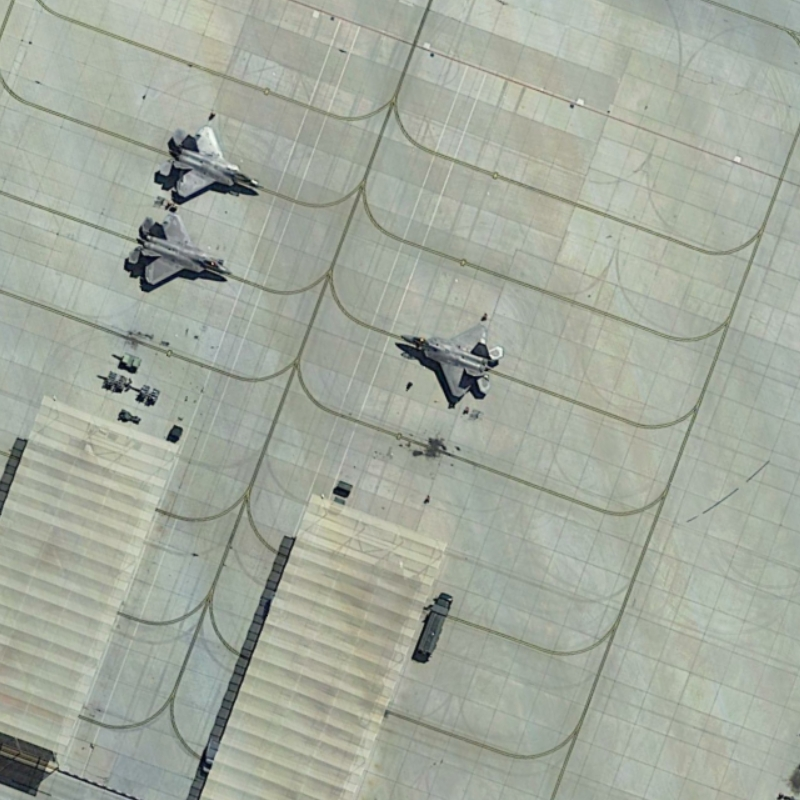A15: (393, 318, 506, 409), (116, 209, 233, 296), (154, 122, 266, 208)
